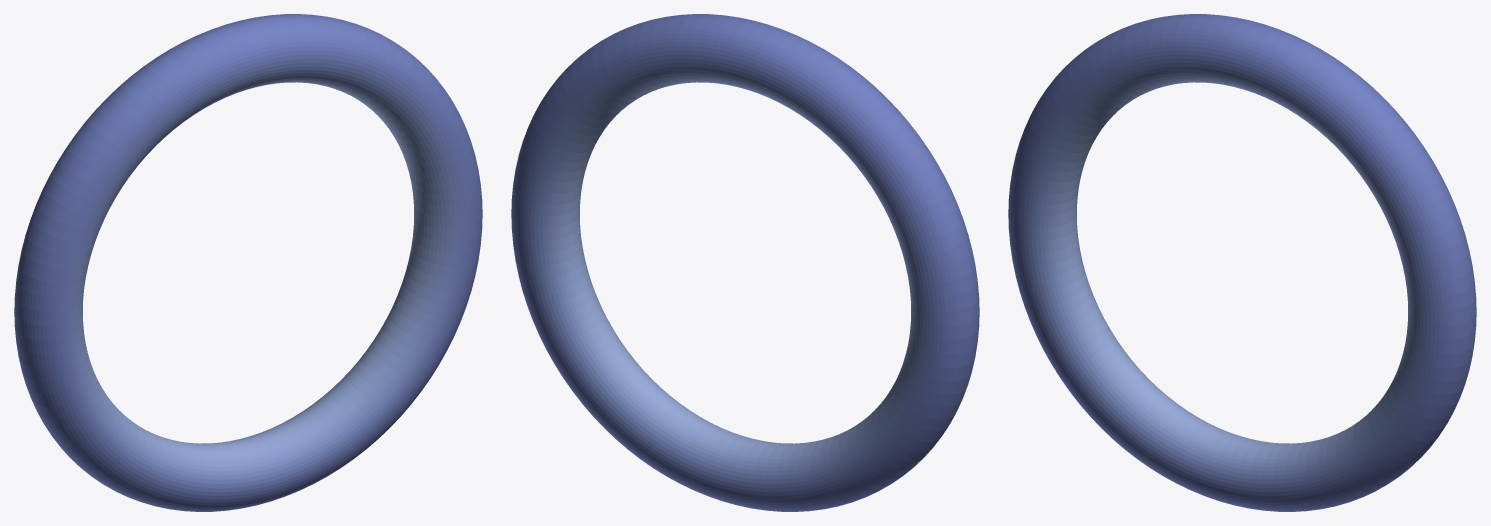
3 renders of one model, left to right at view 1: azimuth 30°, elevation 25°; view 2: azimuth 150°, elevation 25°; view 3: azimuth 330°, elevation 25°, orthographic.
Parts seen in each view (by area): view 1: world; view 2: world; view 3: world.
Part boxes in pixels (x1,y1,x2,y2): world: [14, 14, 482, 511]; world: [511, 14, 979, 511]; world: [1008, 14, 1476, 511].
Bounding box in the file's own units: 23.73 × 23.73 × 3.06.
